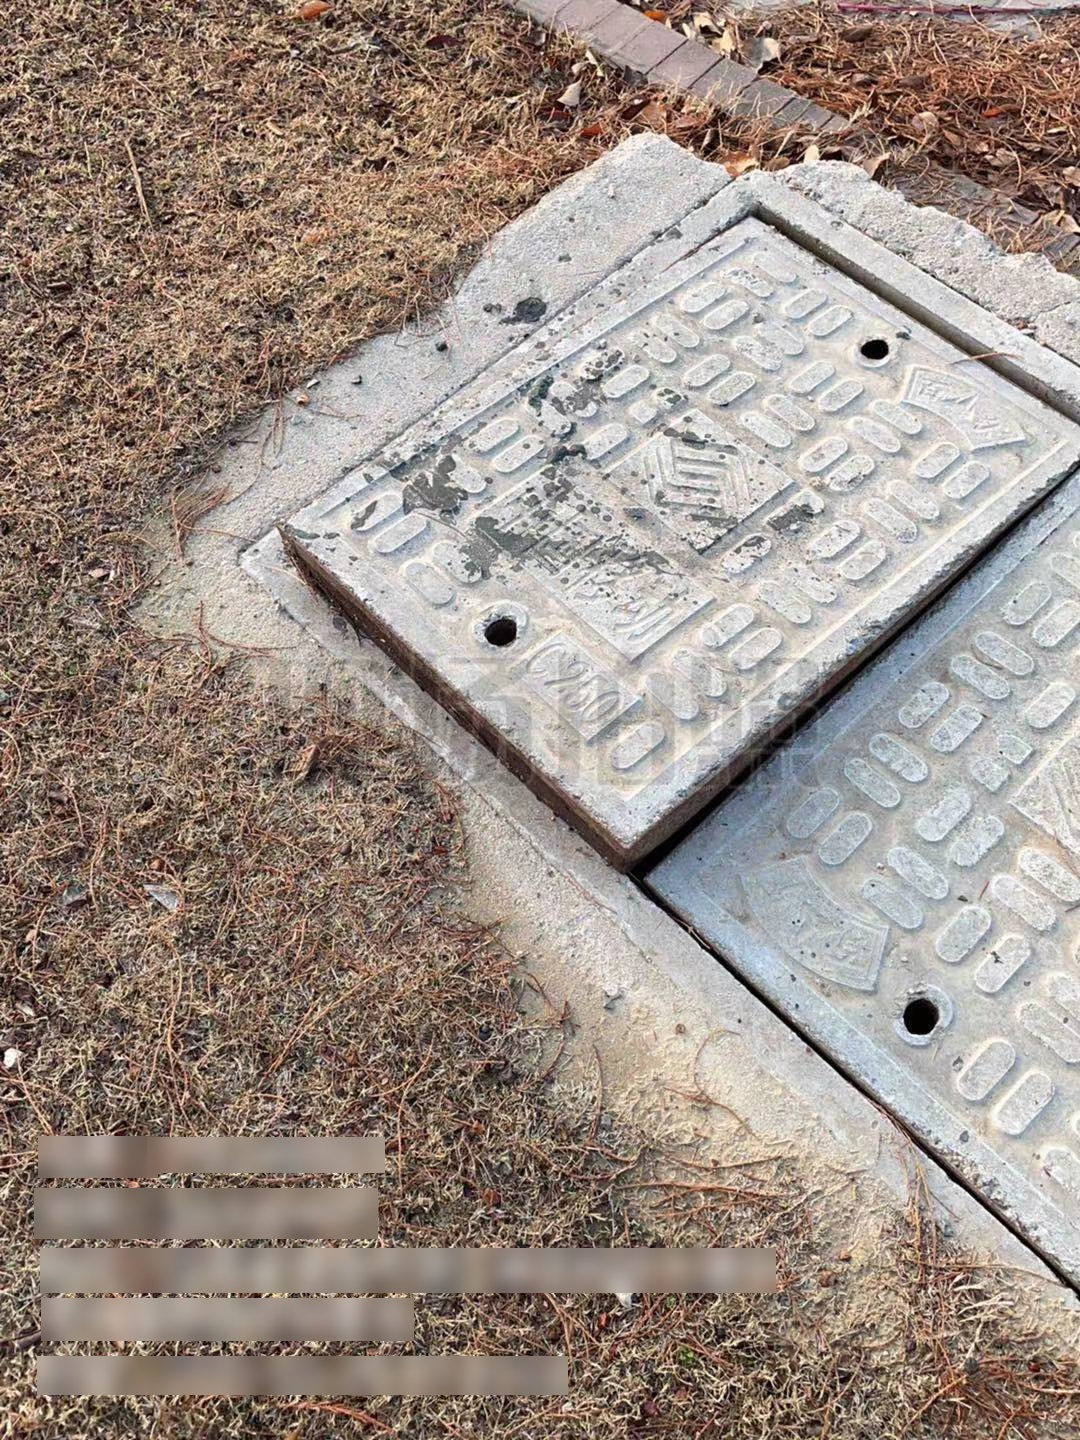uncovered: (236, 170, 1080, 1365)
